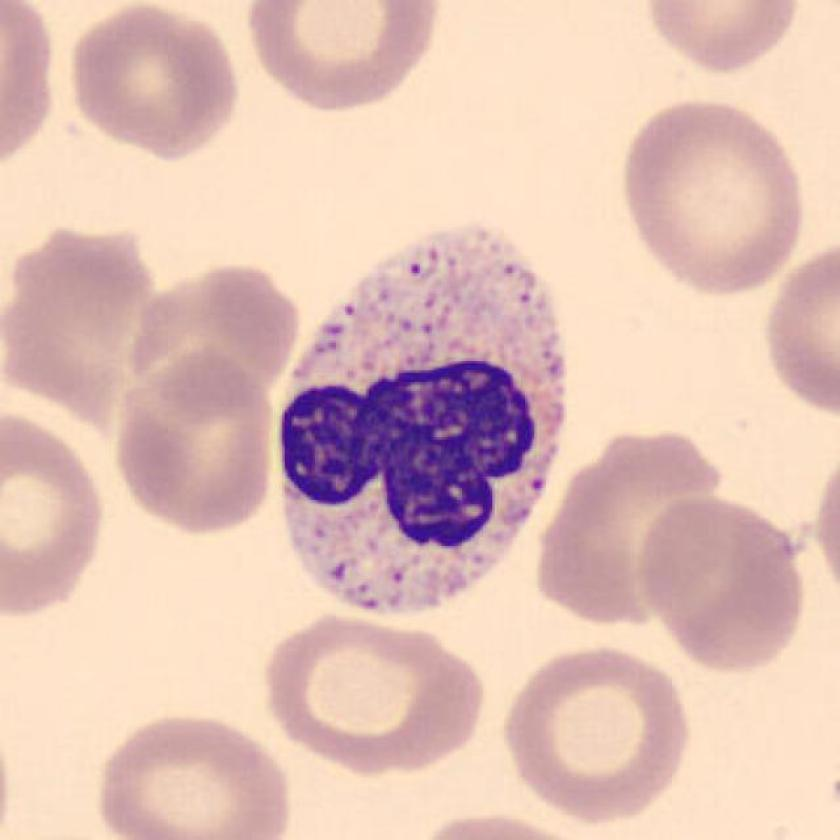neutrophil: (281, 227, 566, 611)
